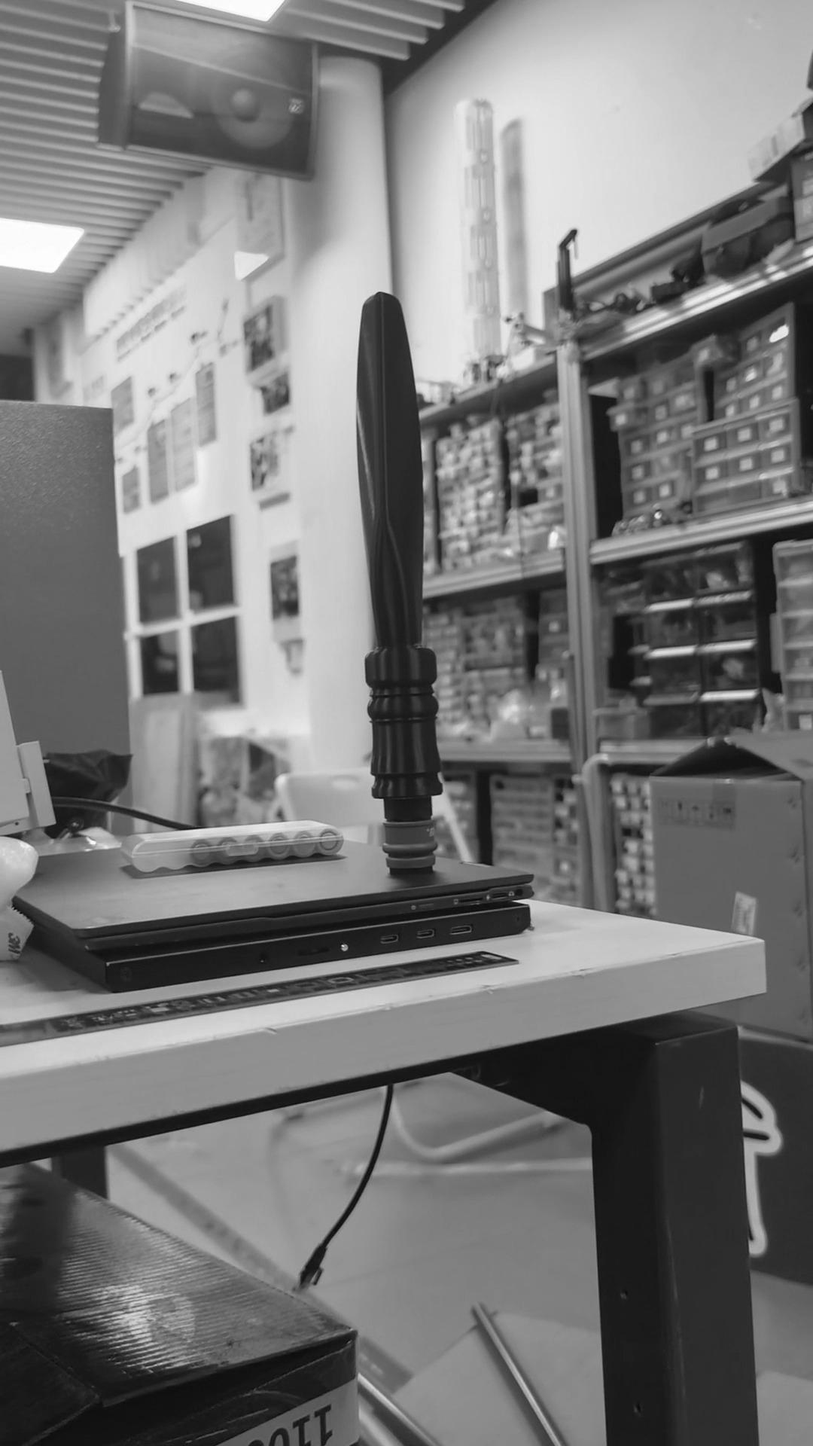base: (381, 814, 441, 871)
